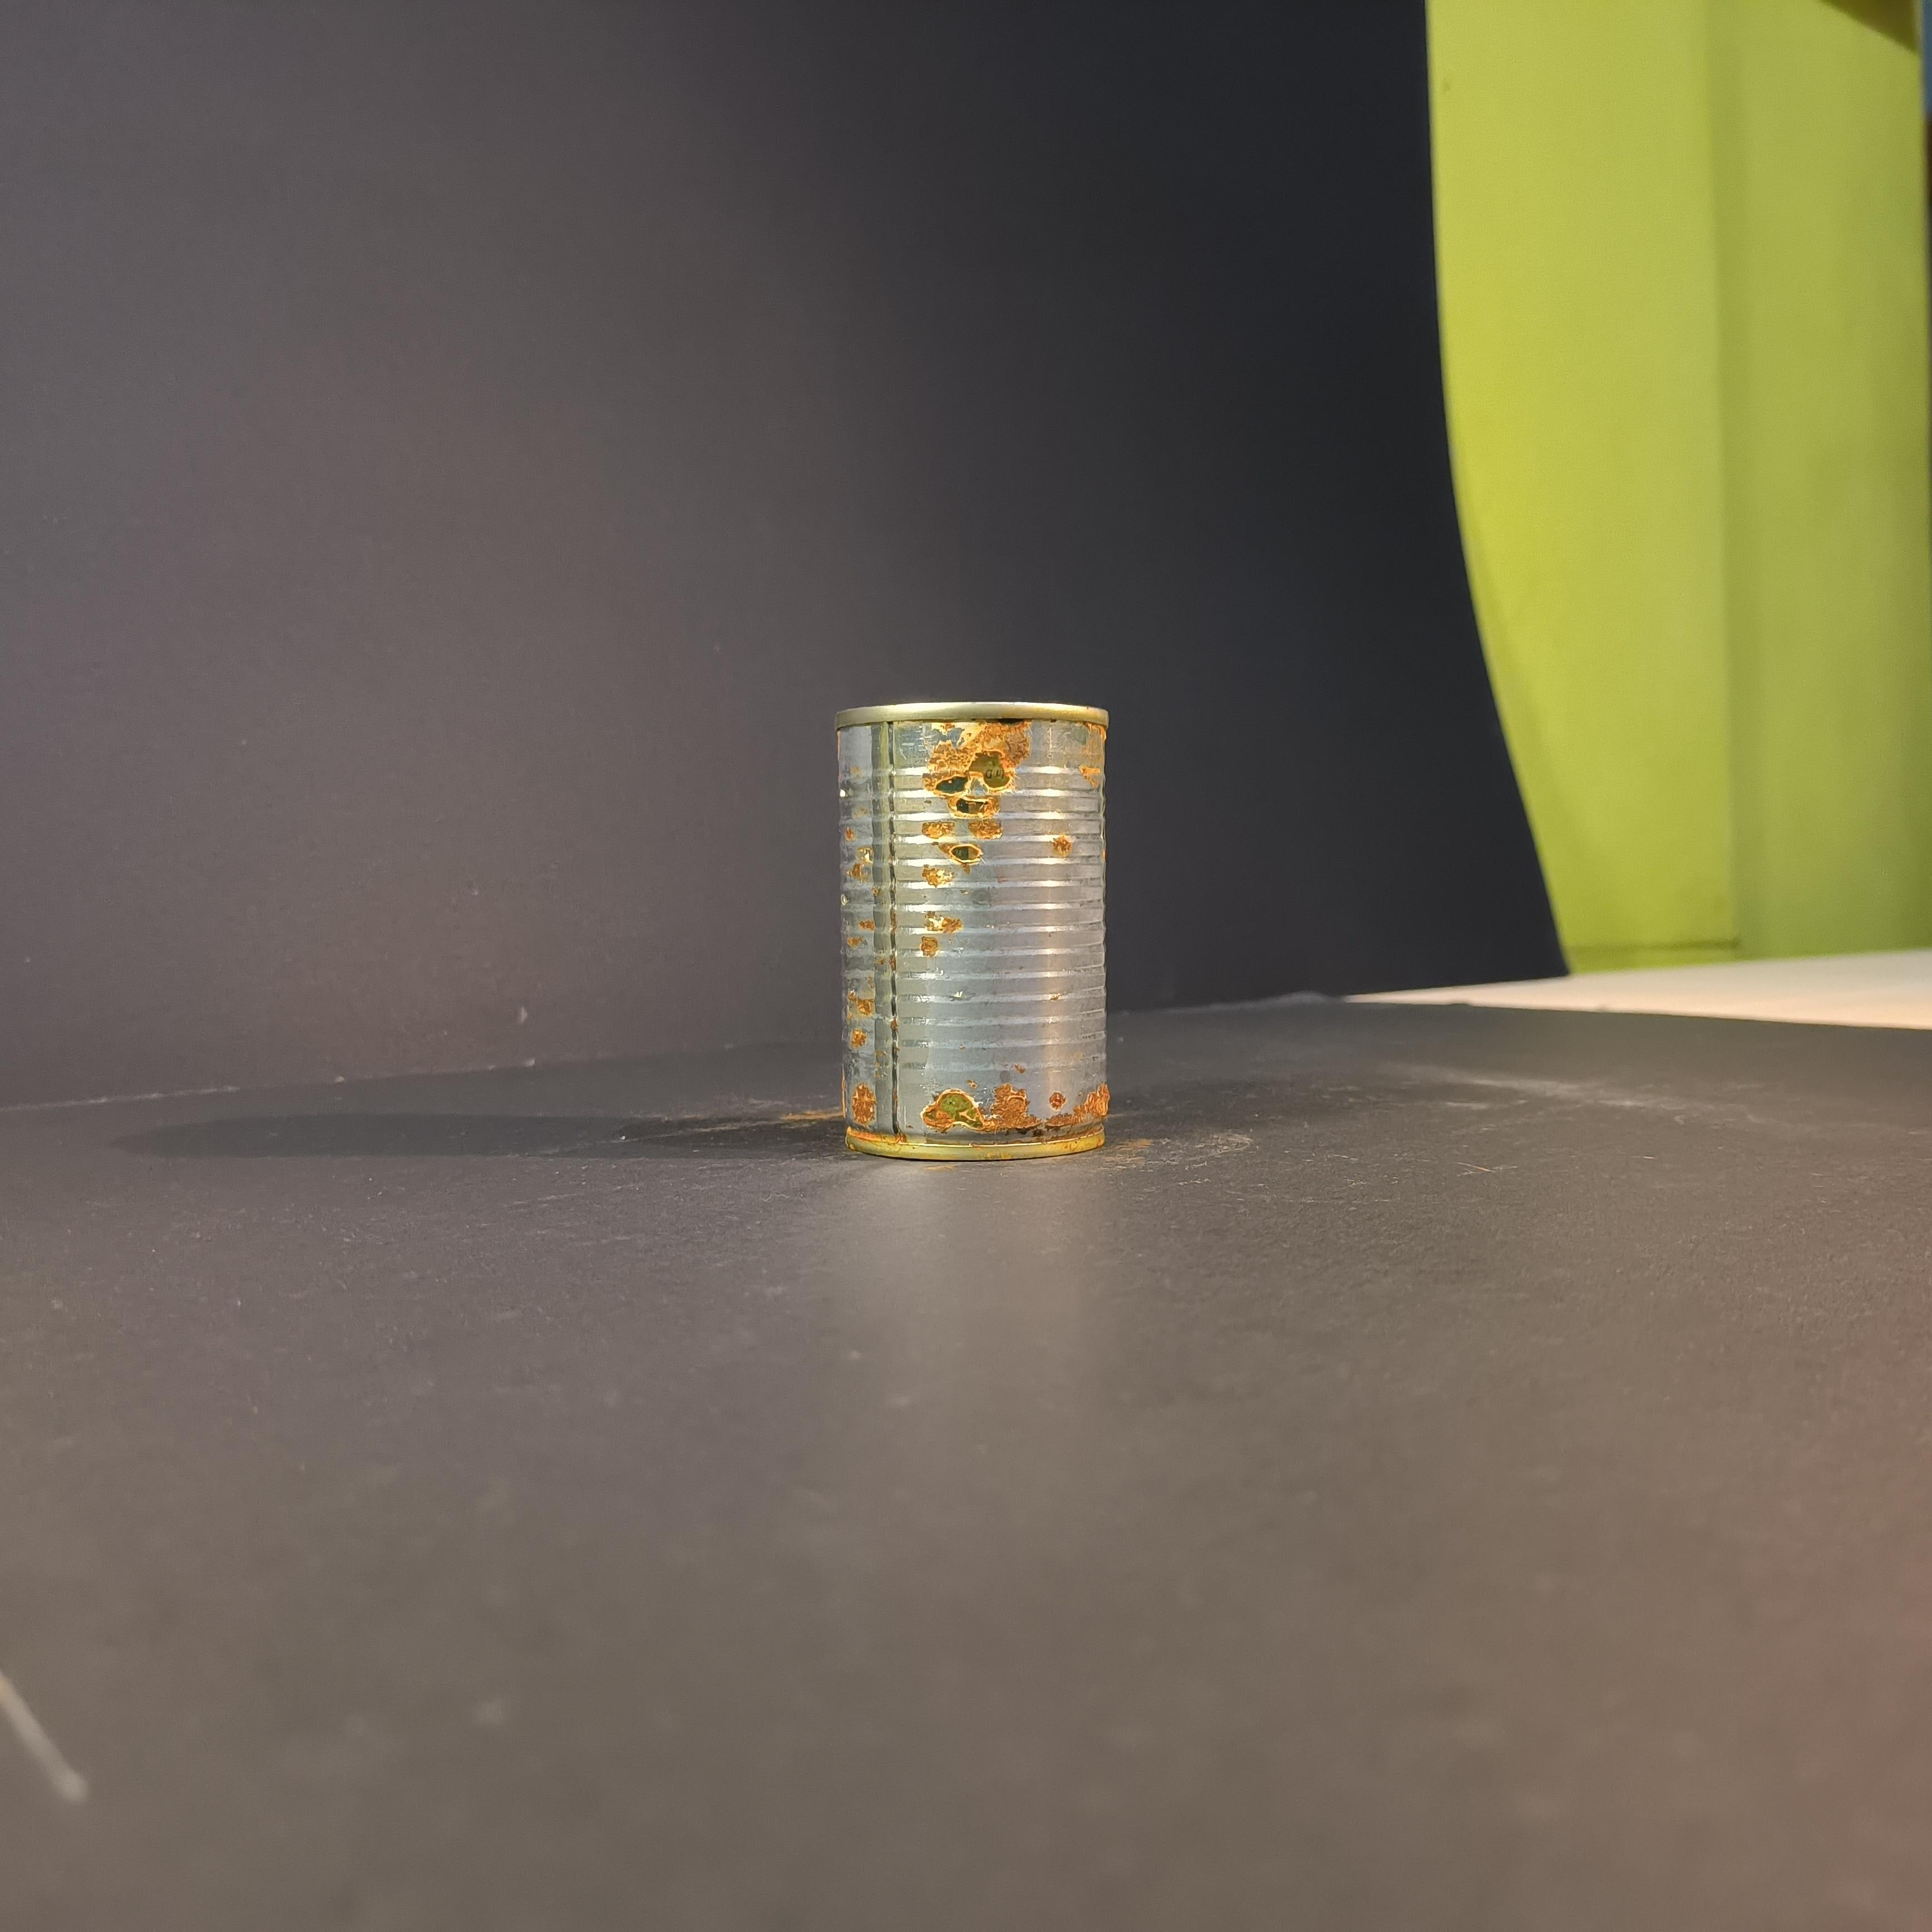Rusted: (817, 679, 1122, 1168)
